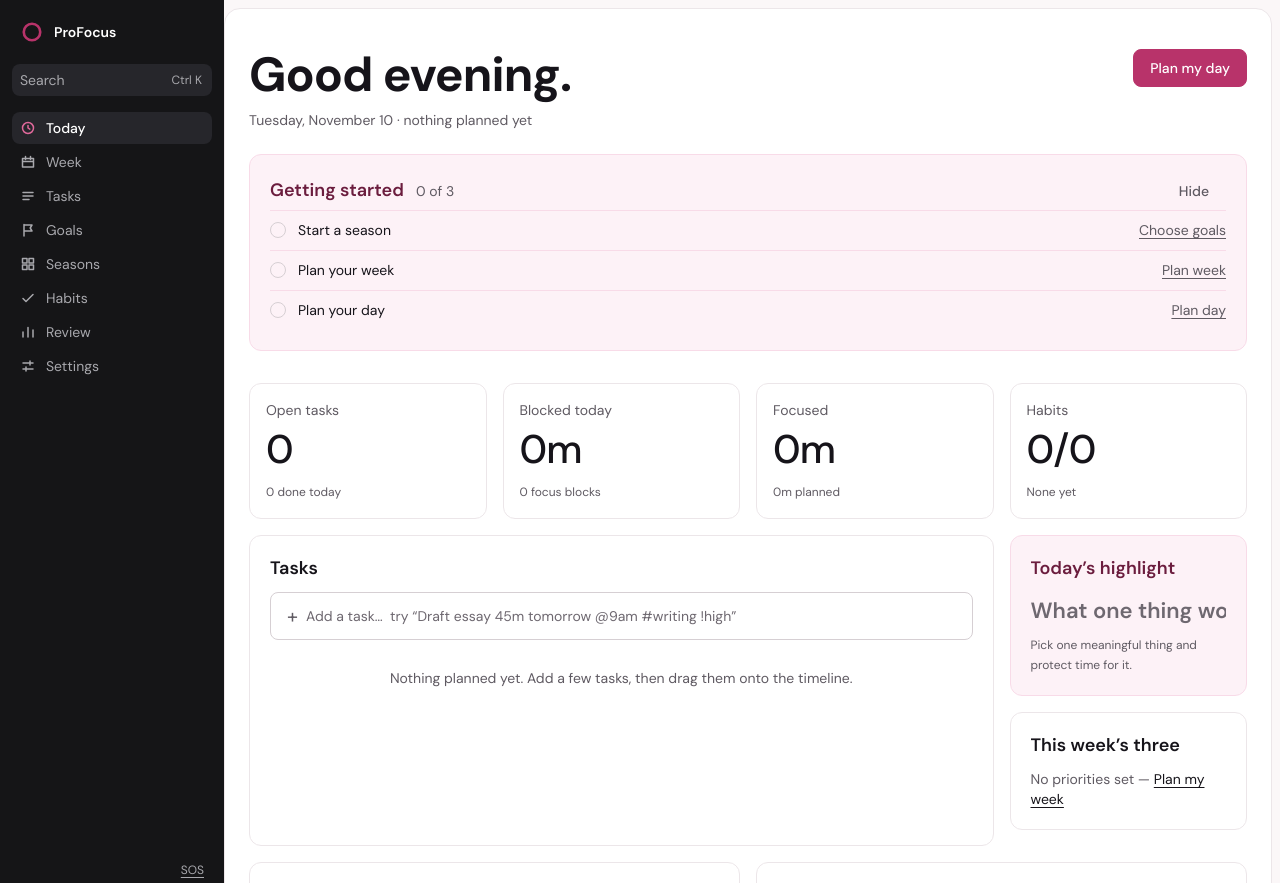
Test: command palette › opens with Ctrl+K, adds a task from typed text and closes on Escape
The image size is (1280, 883).
Press k
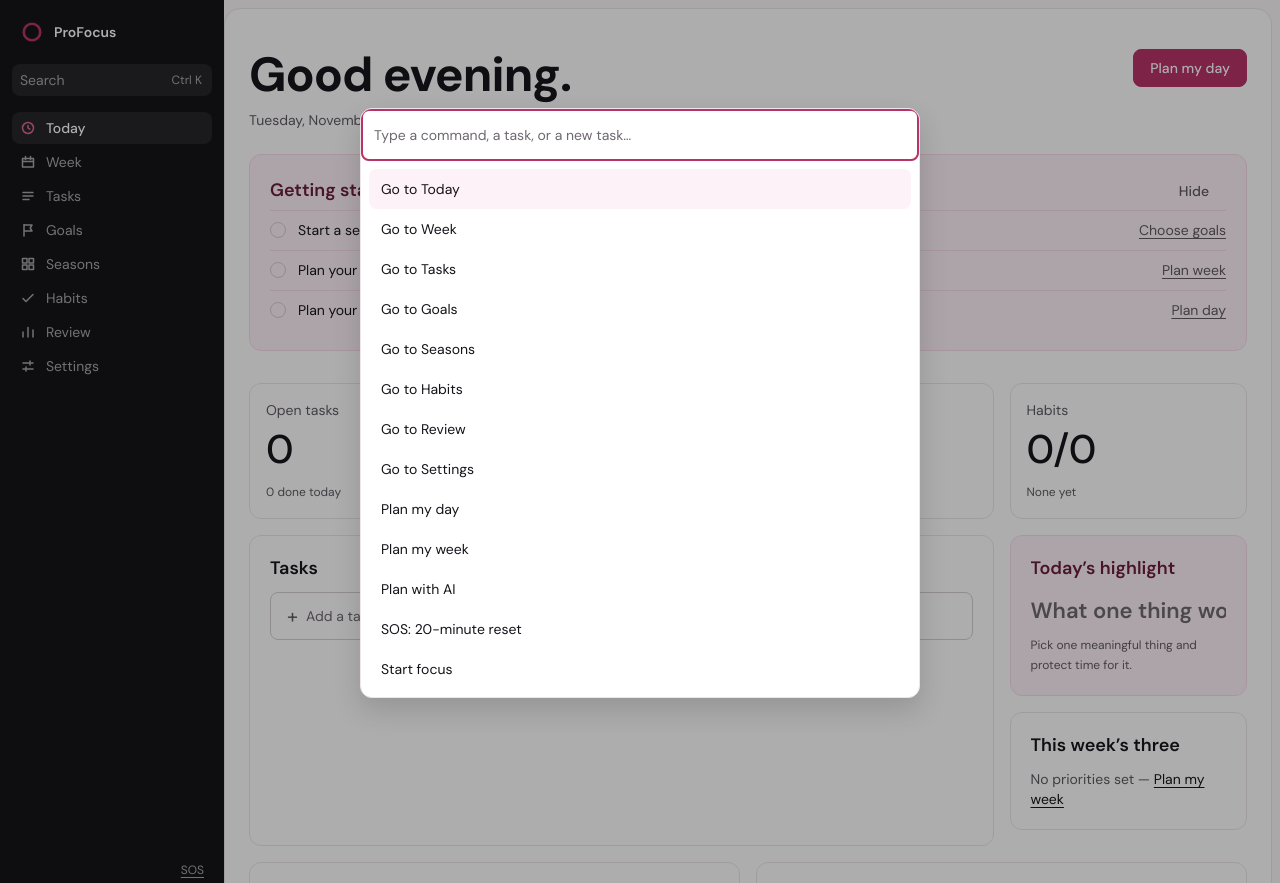
Type "Buy stamps 20m" into the dropdown named "Search commands and tasks". click: x=640, y=135
box: [361, 109, 919, 161]
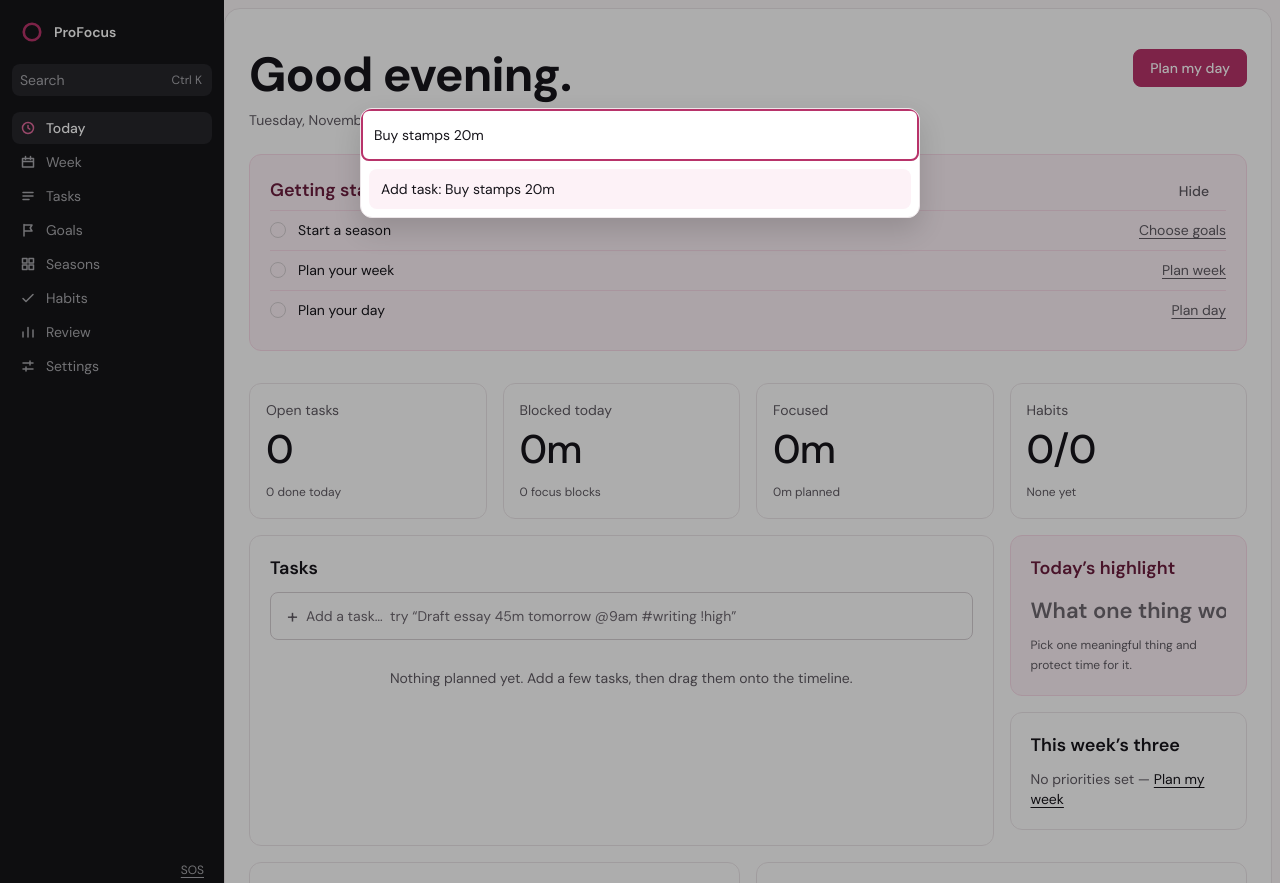
Press Enter in the dropdown named "Search commands and tasks", box [361, 109, 919, 161]
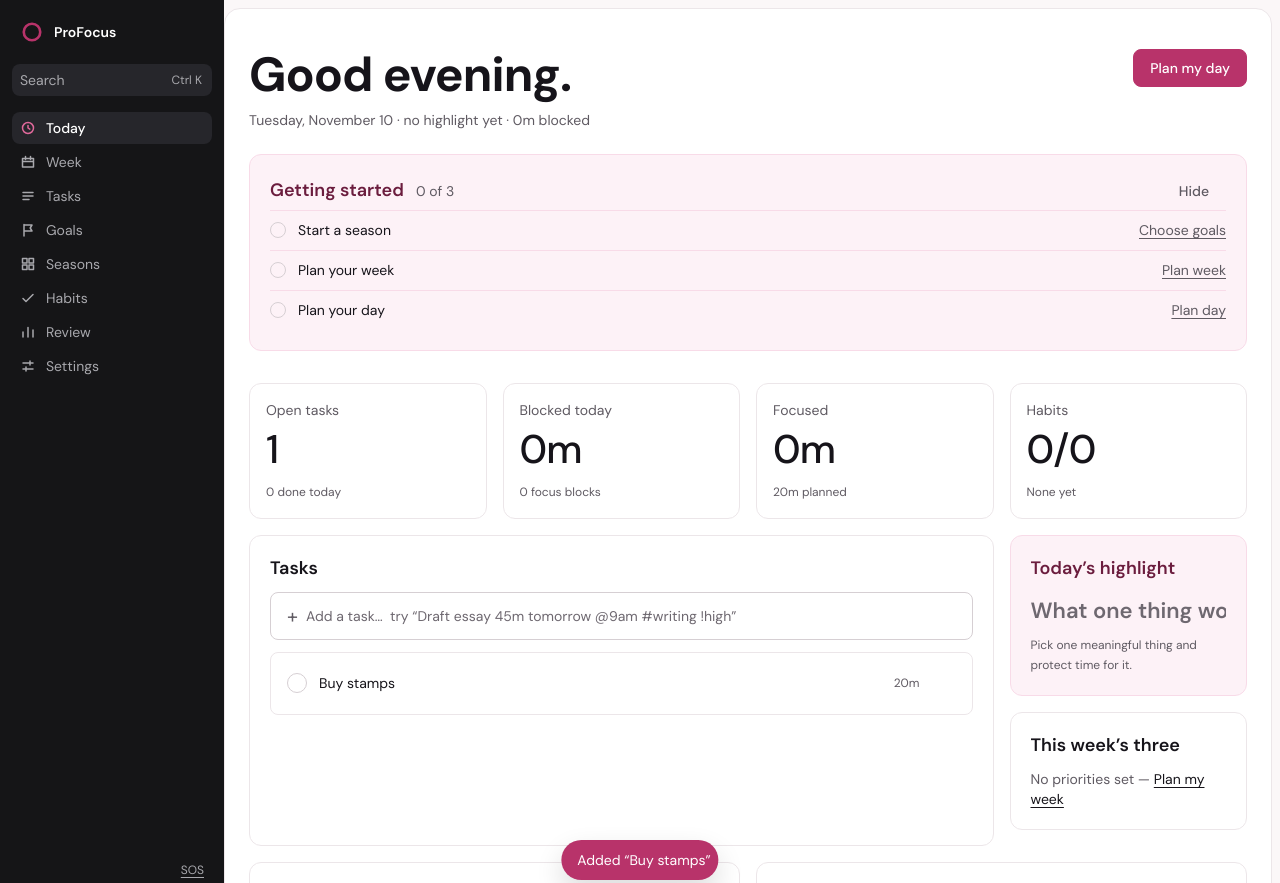
Expected: the dialog "Command palette" is gone
Expected: the button "Buy stamps" is shown, [319, 673, 882, 693]
